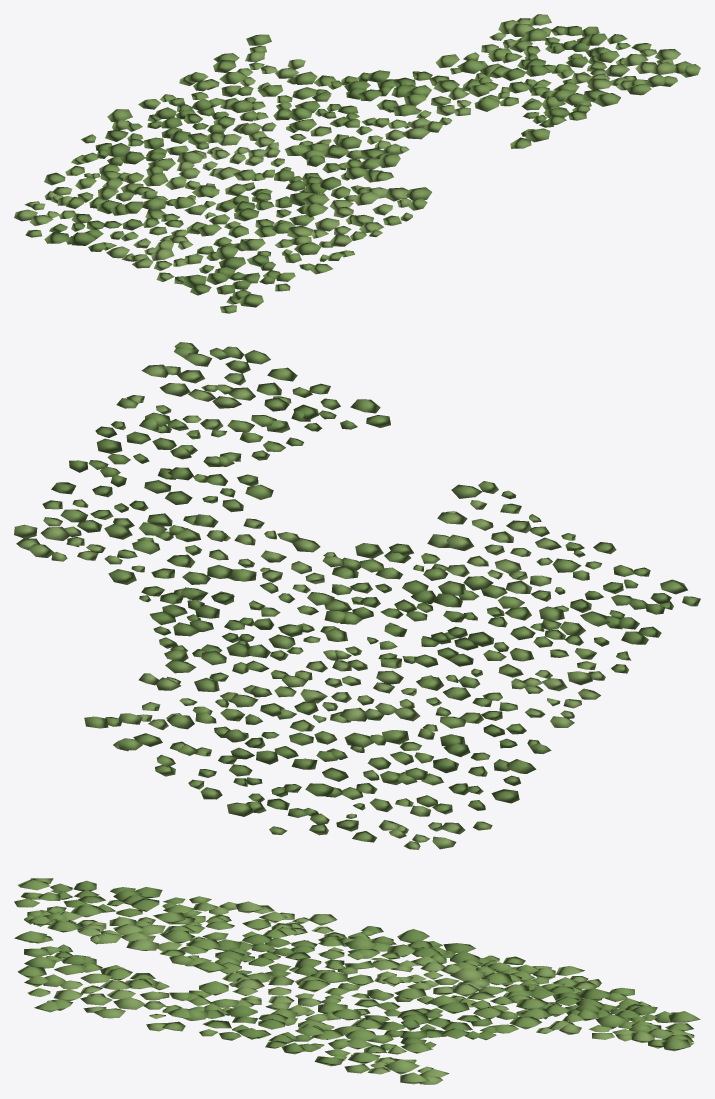
Rendered from canopy-1-1-2.glb.
3 renders of one model, top to bottom at view 1: azimuth 30°, elevation 25°; view 2: azimuth 150°, elevation 25°; view 3: azimuth 270°, elevation 25°, orthographic. The views are drawn at different scales.
Bounding box in the file's own units: 520 × 205 × 520.
1 material, 1 textured.
